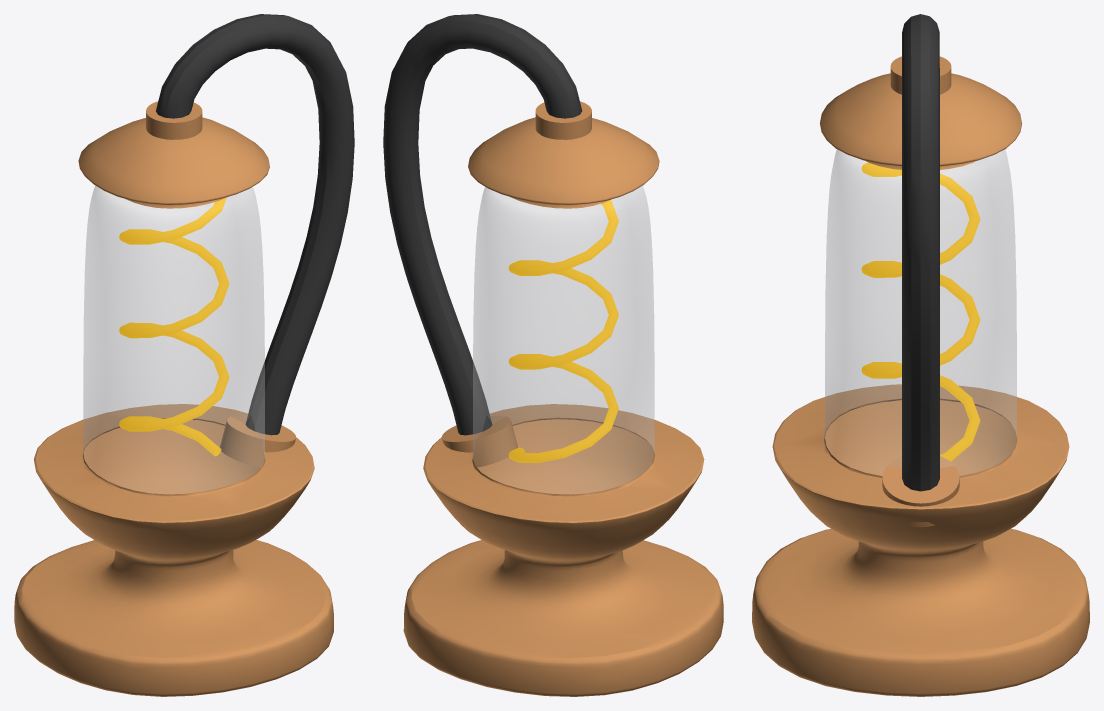
File: steampunk.glb
The picture shows the model from 3 angles, left to right: view 1: azimuth 30°, elevation 25°; view 2: azimuth 150°, elevation 25°; view 3: azimuth 270°, elevation 25°; orthographic projection. The views are drawn at different scales.
Visible parts, largest first — view 1: Object_4, Object_3, Object_5, Object_2; view 2: Object_4, Object_3, Object_5, Object_2; view 3: Object_4, Object_3, Object_5, Object_2.
Boxes of the visible parts, x1=… form: Object_4: x1=14, y1=101, x2=333, y2=696; Object_3: x1=83, y1=186, x2=264, y2=493; Object_5: x1=156, y1=14, x2=354, y2=435; Object_2: x1=119, y1=197, x2=229, y2=456; Object_4: x1=403, y1=101, x2=723, y2=696; Object_3: x1=473, y1=186, x2=654, y2=494; Object_5: x1=383, y1=14, x2=582, y2=435; Object_2: x1=508, y1=200, x2=618, y2=462; Object_4: x1=752, y1=56, x2=1089, y2=696; Object_3: x1=825, y1=149, x2=1016, y2=475; Object_5: x1=902, y1=14, x2=939, y2=491; Object_2: x1=861, y1=162, x2=980, y2=461.
Bounding box in the file's own units: 7.23 × 13.18 × 6.25.
